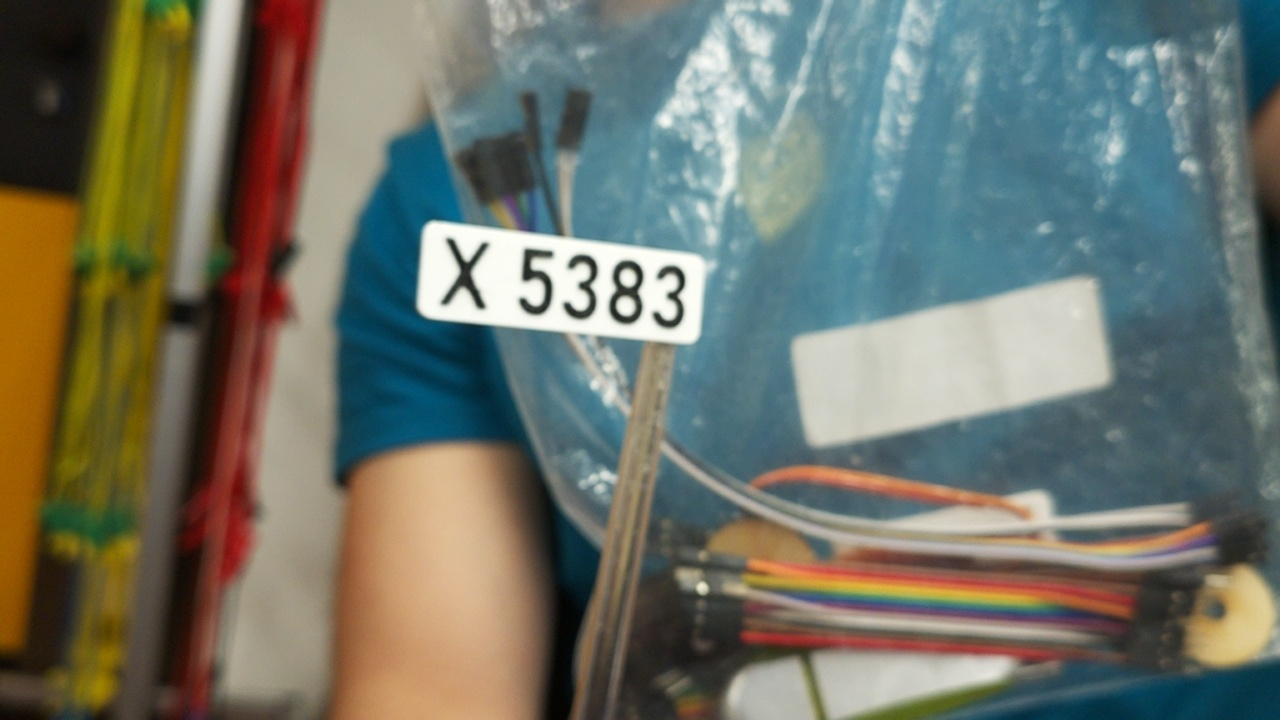license_plate: (414, 218, 706, 348)
